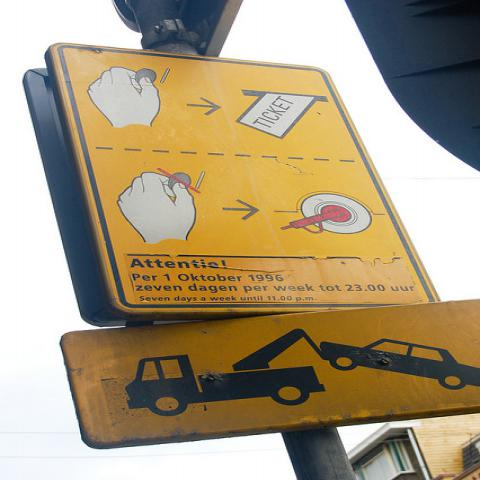truck: (123, 355, 329, 415)
